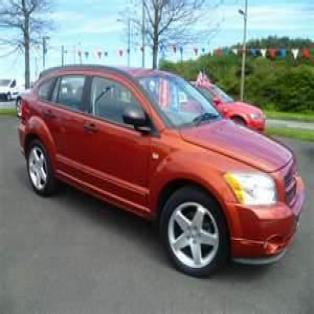Auto: (17, 59, 302, 279)
